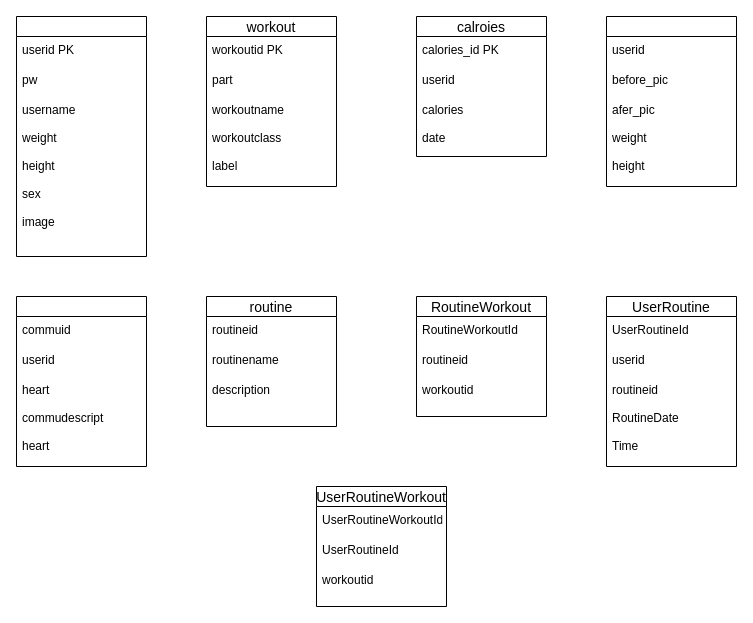
This 753x623 diagram has some shape labels left out. Here are the shapes that lost their labels. From the top down, the box of each, then its label:
(606, 16, 736, 186): UserBeforeAfter
(16, 16, 146, 256): users
(16, 296, 146, 466): community
